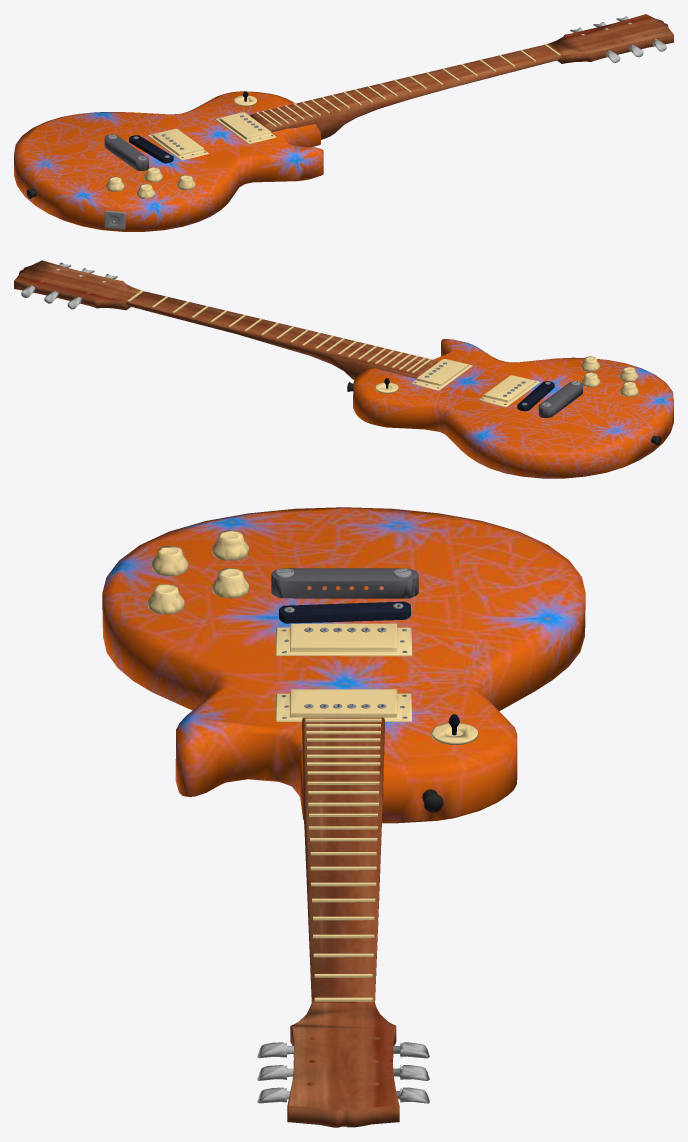
The model's file is gitarre_saal.glb.
3 renders of one model, top to bottom at view 1: azimuth 30°, elevation 25°; view 2: azimuth 150°, elevation 25°; view 3: azimuth 270°, elevation 25°, orthographic. The views are drawn at different scales.
Visible parts, largest first — view 1: Object_6, Object_13, Object_5, Object_10, Object_14, Object_15, Object_3, Object_2, Object_4, Object_8; view 2: Object_6, Object_13, Object_5, Object_10, Object_14, Object_15, Object_3, Object_2, Object_4; view 3: Object_6, Object_13, Object_5, Object_10, Object_14, Object_3, Object_15, Object_2, Object_4, Object_12.
Part boxes in pixels (x1=…): Object_6: x1=14, y1=91, x2=323, y2=231; Object_13: x1=250, y1=45, x2=561, y2=139; Object_5: x1=547, y1=14, x2=673, y2=63; Object_10: x1=147, y1=112, x2=276, y2=160; Object_14: x1=256, y1=44, x2=560, y2=126; Object_15: x1=106, y1=167, x2=195, y2=198; Object_3: x1=104, y1=134, x2=148, y2=170; Object_2: x1=570, y1=16, x2=666, y2=62; Object_4: x1=129, y1=135, x2=173, y2=163; Object_8: x1=104, y1=210, x2=125, y2=229; Object_6: x1=353, y1=339, x2=673, y2=478; Object_13: x1=126, y1=291, x2=437, y2=380; Object_5: x1=14, y1=260, x2=140, y2=310; Object_10: x1=411, y1=358, x2=539, y2=407; Object_14: x1=127, y1=290, x2=431, y2=373; Object_15: x1=581, y1=356, x2=638, y2=396; Object_3: x1=538, y1=381, x2=582, y2=417; Object_2: x1=21, y1=262, x2=117, y2=309; Object_4: x1=517, y1=381, x2=554, y2=411; Object_6: x1=102, y1=507, x2=585, y2=823; Object_13: x1=302, y1=717, x2=384, y2=1002; Object_5: x1=287, y1=1002, x2=399, y2=1127; Object_10: x1=276, y1=623, x2=411, y2=721; Object_14: x1=305, y1=718, x2=381, y2=1001; Object_3: x1=271, y1=568, x2=418, y2=598; Object_15: x1=148, y1=530, x2=248, y2=614; Object_2: x1=257, y1=1042, x2=429, y2=1103; Object_4: x1=279, y1=601, x2=410, y2=623; Object_12: x1=275, y1=568, x2=411, y2=718.
Size of the model in its own units: 8.66 by 0.4787 by 2.85.
14 materials, 8 textured.
